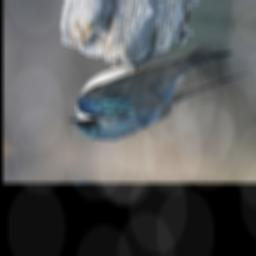Swallow: (66, 32, 256, 158)
